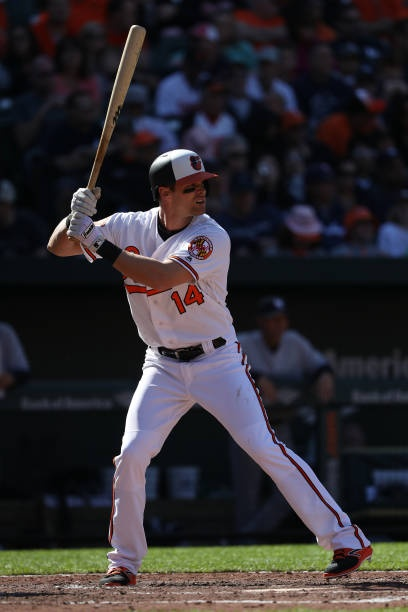bita: (83, 20, 151, 212)
